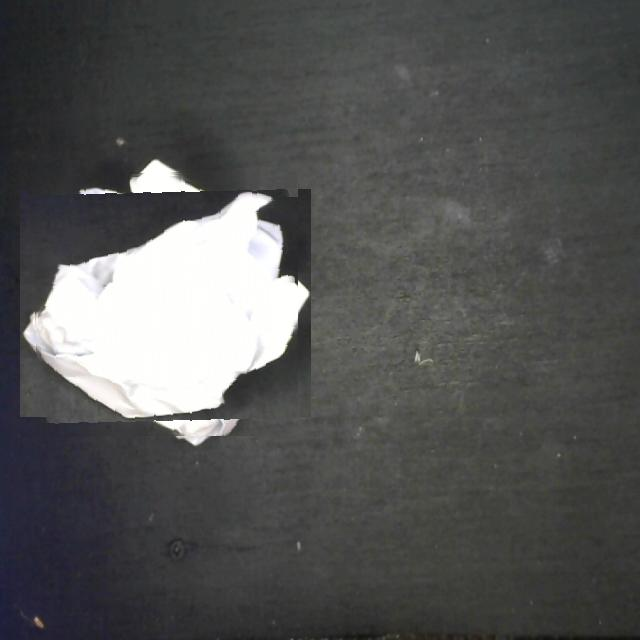biodegradable: (32, 170, 298, 436)
